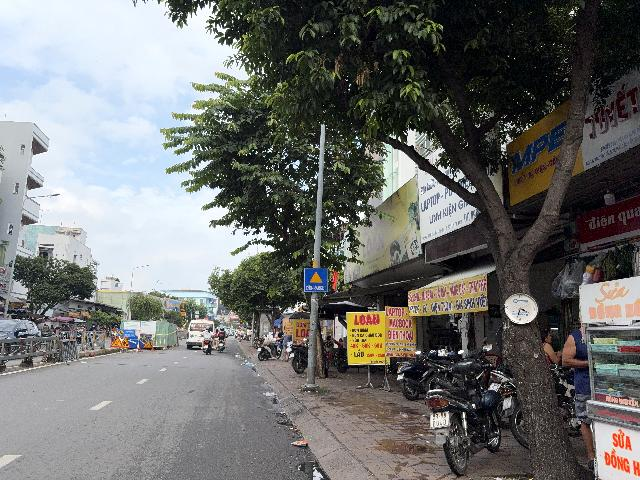khu-vuc-cho-phia-truoc: (304, 268, 328, 292)
